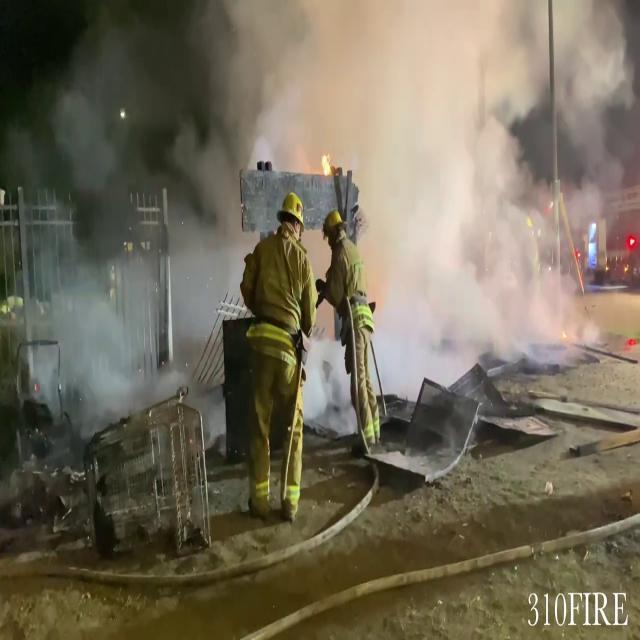Smoke: (22, 0, 640, 366)
